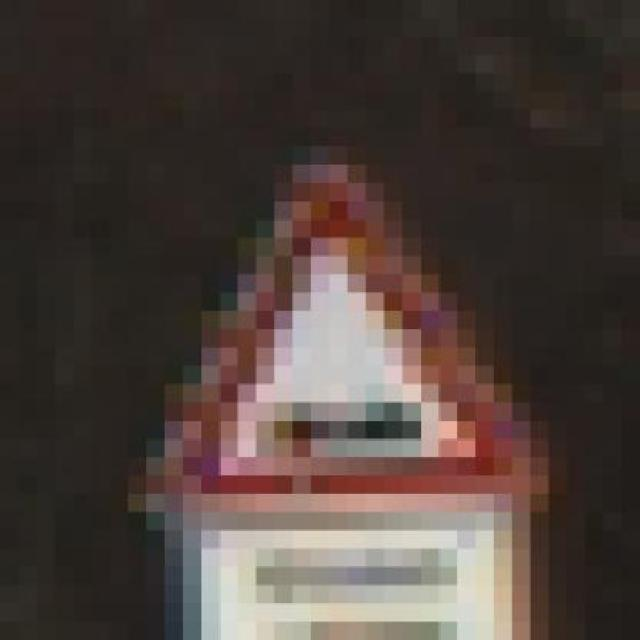Uneven Road: (146, 146, 549, 531)
